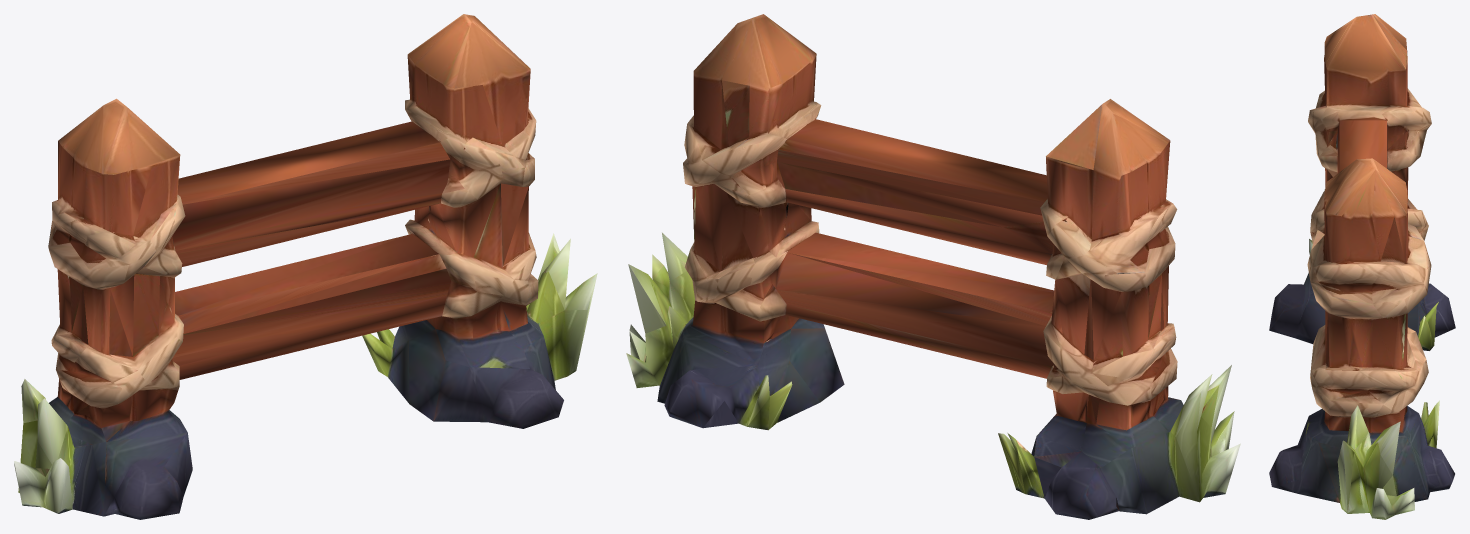
The model's file is fence_low.fbx.
3 renders of one model, left to right at view 1: azimuth 30°, elevation 25°; view 2: azimuth 150°, elevation 25°; view 3: azimuth 270°, elevation 25°, orthographic. The views are drawn at different scales.
Parts seen in each view (by area): view 1: fence_low; view 2: fence_low; view 3: fence_low.
Part boxes in pixels (x1,y1,x2,y2): fence_low: [14, 14, 597, 519]; fence_low: [626, 14, 1240, 519]; fence_low: [1269, 14, 1455, 519].
Bounding box in the file's own units: 1.8 × 1.09 × 0.5854.
1 material, 1 textured.
